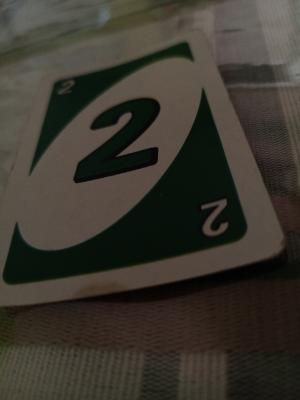green: (50, 85, 222, 264)
num_2: (199, 196, 237, 239), (54, 78, 77, 99)
